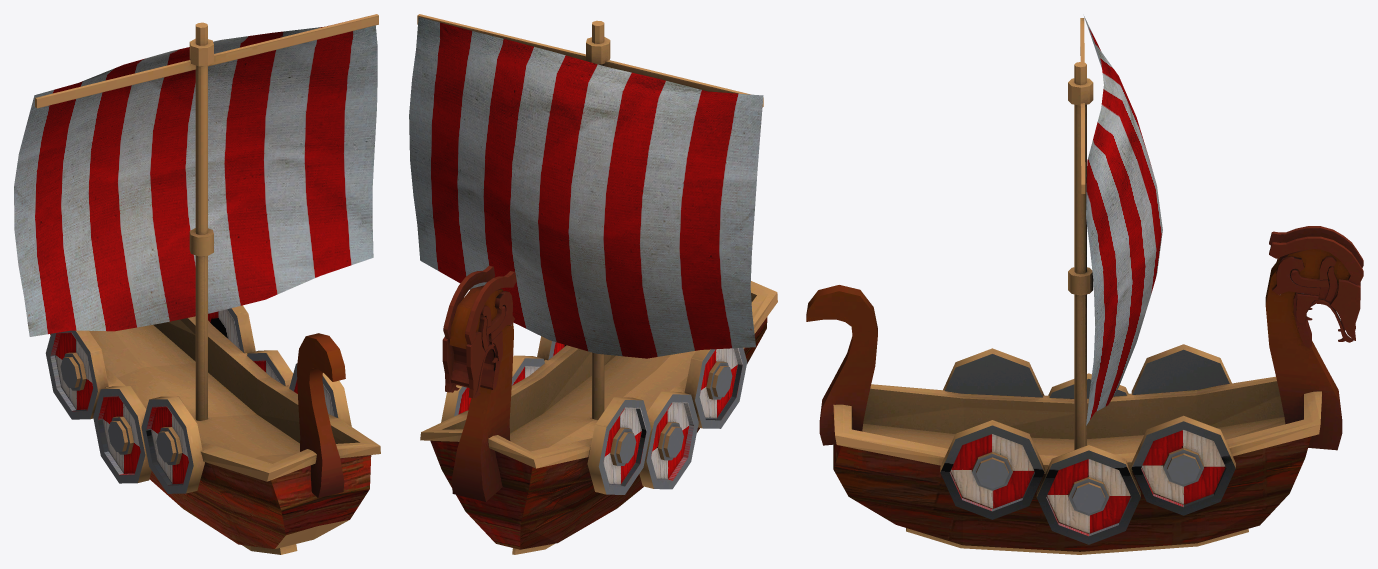
The model's file is boat.obj.
3 renders of one model, left to right at view 1: azimuth 30°, elevation 25°; view 2: azimuth 150°, elevation 25°; view 3: azimuth 270°, elevation 25°, orthographic.
Parts seen in each view (by area): view 1: node_id253 root; view 2: node_id253 root; view 3: node_id253 root.
Boxes of the visible parts, x1,y1,x2,y2 form: node_id253 root: (14,14,380,554); node_id253 root: (409,14,777,554); node_id253 root: (806,16,1363,554).
Size of the model in its own units: 6.96 by 9.17 by 9.51.
1 material, 1 textured.
